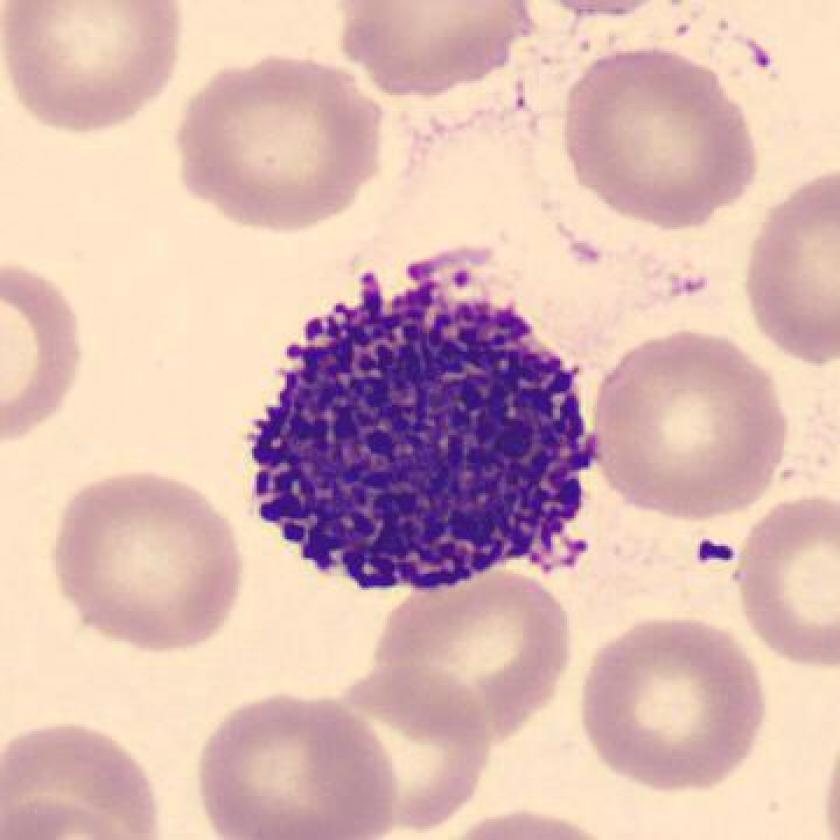basophil: (235, 270, 606, 591)
